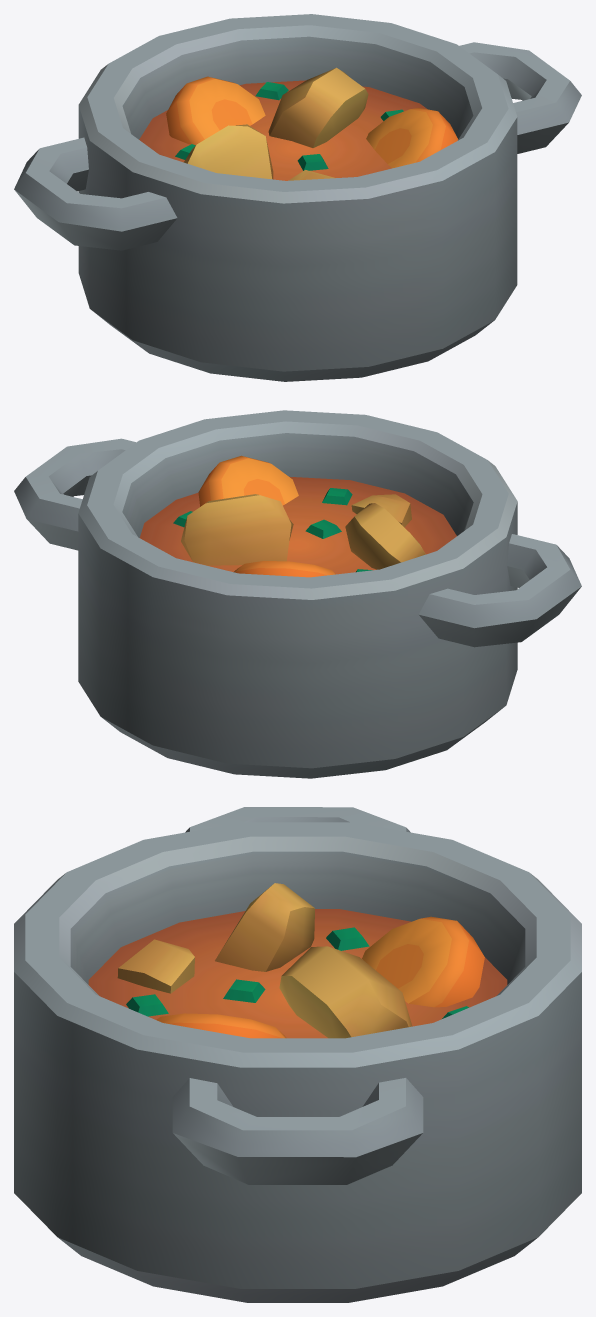
Rendered from kkr.pot_a_stew.glb.
The picture shows the model from 3 angles, top to bottom: view 1: azimuth 30°, elevation 25°; view 2: azimuth 150°, elevation 25°; view 3: azimuth 270°, elevation 25°; orthographic projection. The views are drawn at different scales.
Visible parts, largest first — view 1: pot_A_stew; view 2: pot_A_stew; view 3: pot_A_stew.
Boxes of the visible parts, x1,y1,x2,y2 form: pot_A_stew: (14,14,581,381); pot_A_stew: (14,410,581,778); pot_A_stew: (14,807,581,1302).
Bounding box in the file's own units: 0.3859 × 0.1422 × 0.2757.
Materials: 1 (1 with a texture image).
